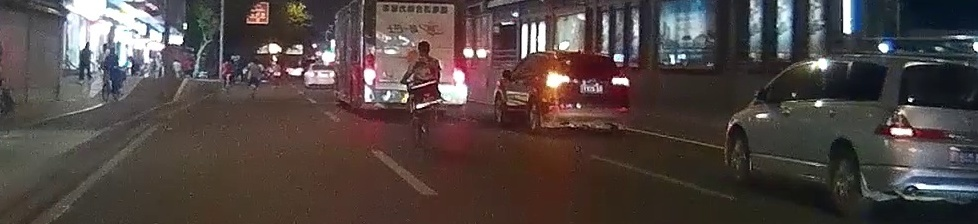L_light: (547, 74, 570, 84)
R_light: (611, 77, 629, 87)
T_light: (580, 54, 594, 59)
night-left: (545, 50, 630, 133)
